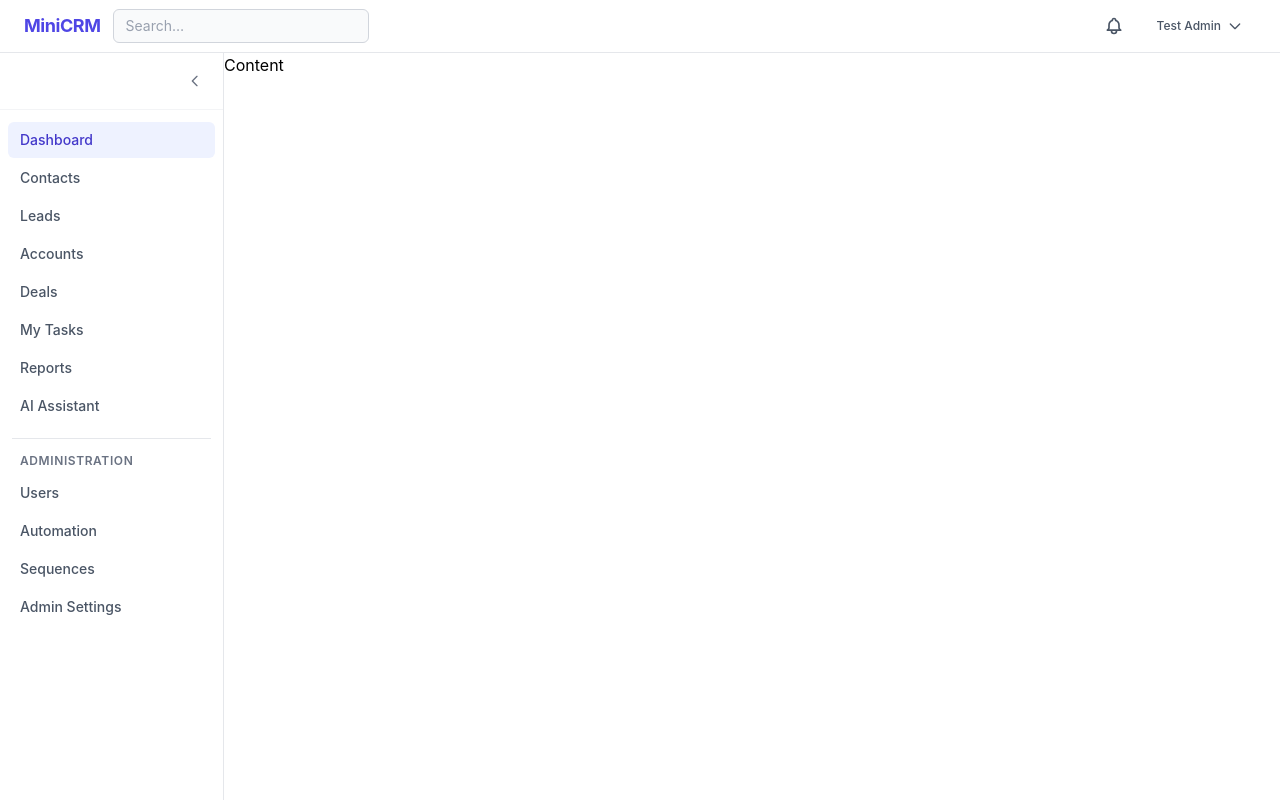
Scenario: NavLeft › renders the logout item in the user menu
Click the button with test id "nav-user-menu-button": (1200, 26) 1144,11 -> 1256,41
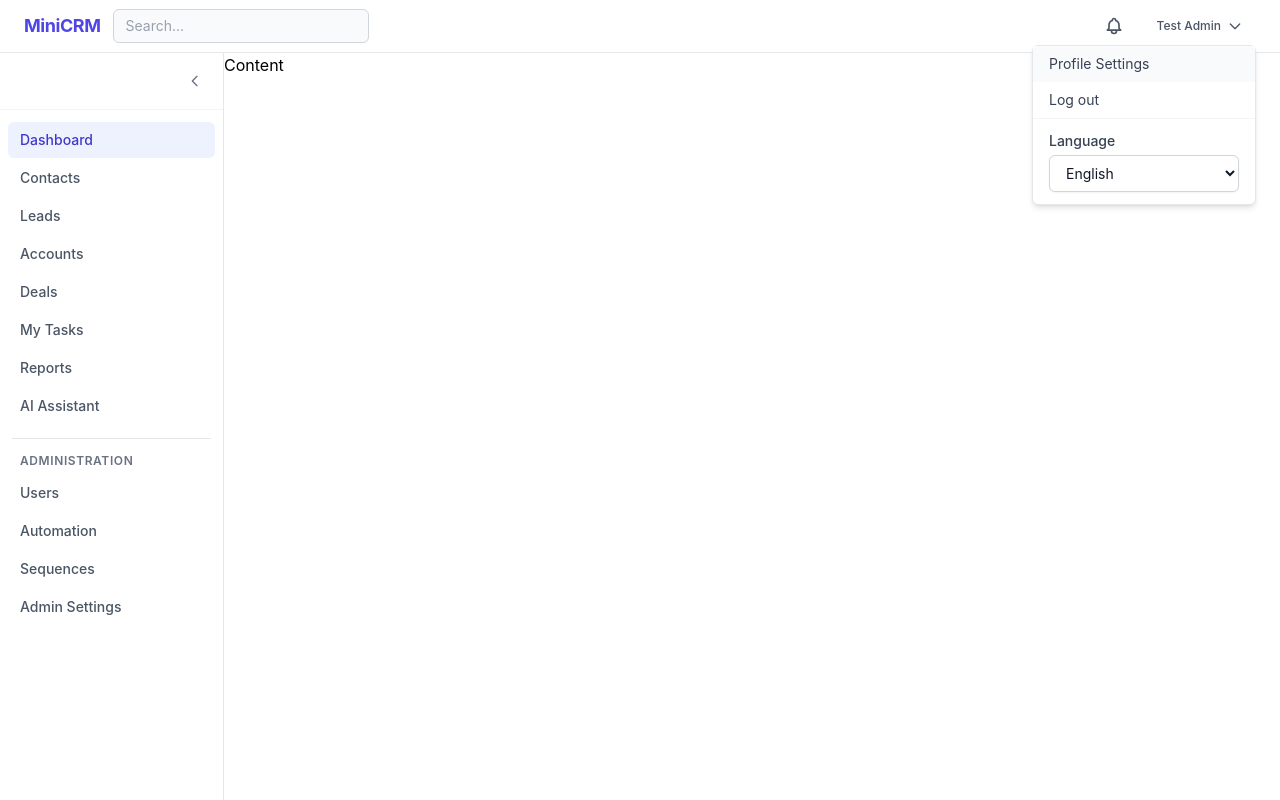
expect the menu item with test id "nav-logout" is shown: met, box 1033,82 -> 1255,118
